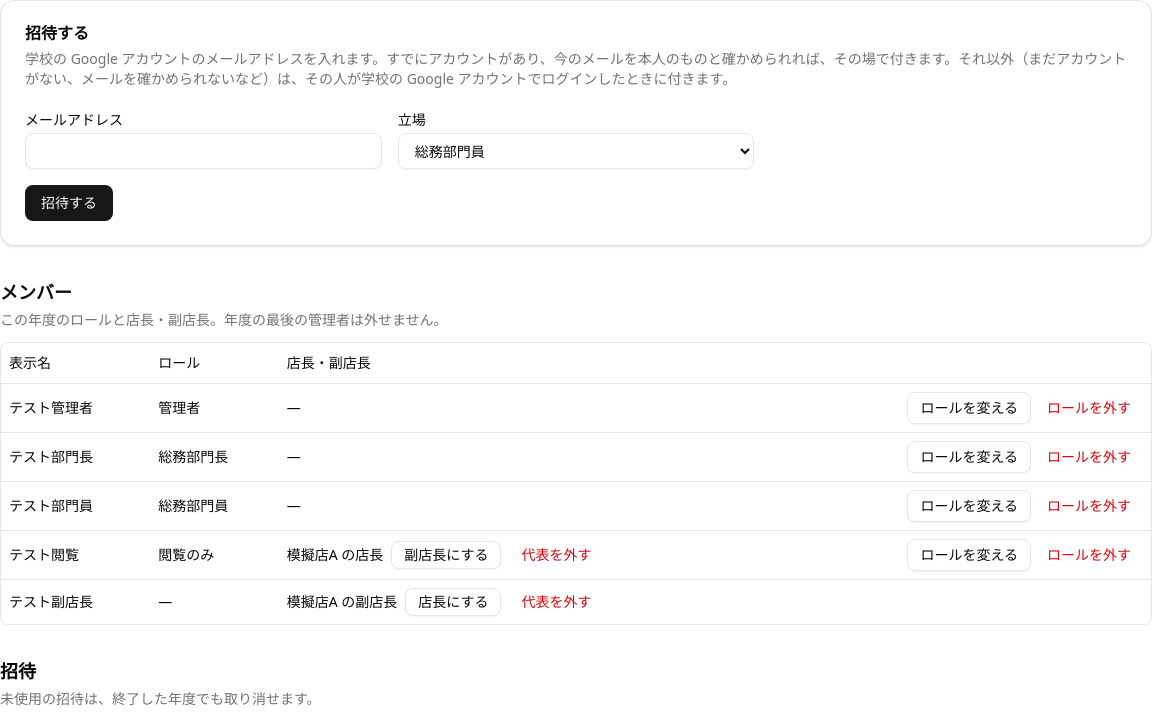
it: 招待のエラーは立場の欄の下（入力は残す。04） › 兼任の禁止（団体の招待。未使用の総務部門員の招待がある）も同じ
The width and height of the screenshot is (1152, 720).
expect the form with test id "invite-form" is shown: met, box [25,110,754,221]
Select "店長" in the dropdown labelled "立場". click: (576, 151)
box: [398,133,754,169]
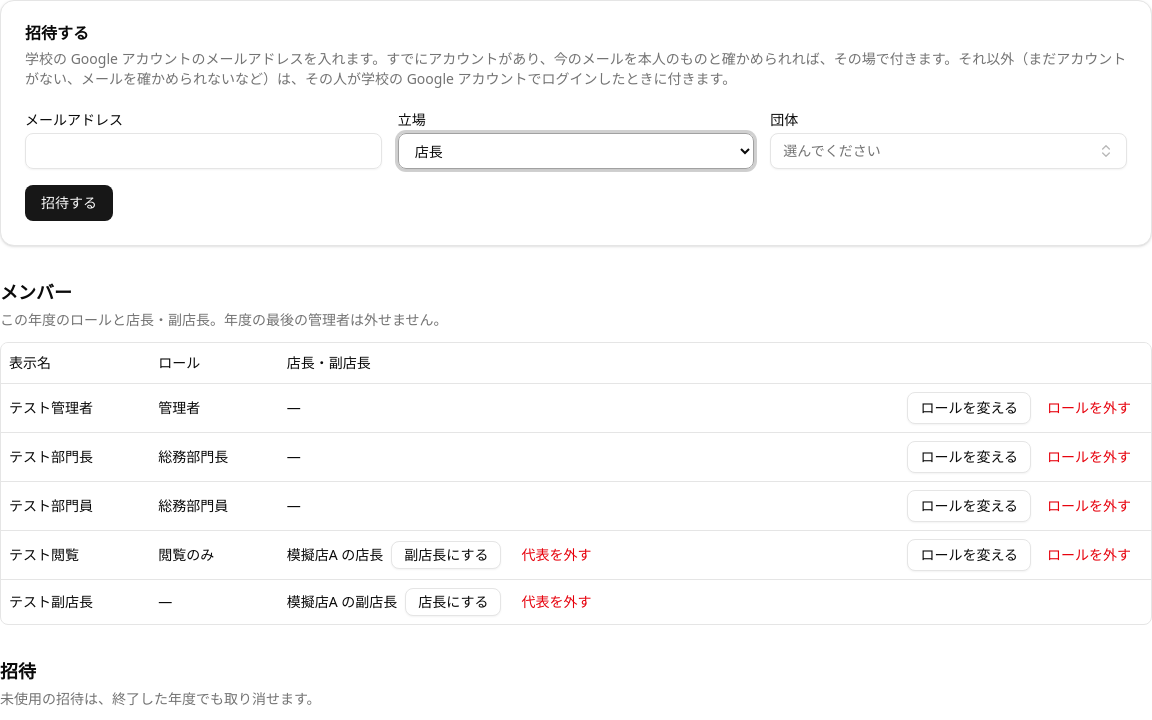
Click the dropdown named "団体". click: (832, 150)
box: [770,133,1127,169]
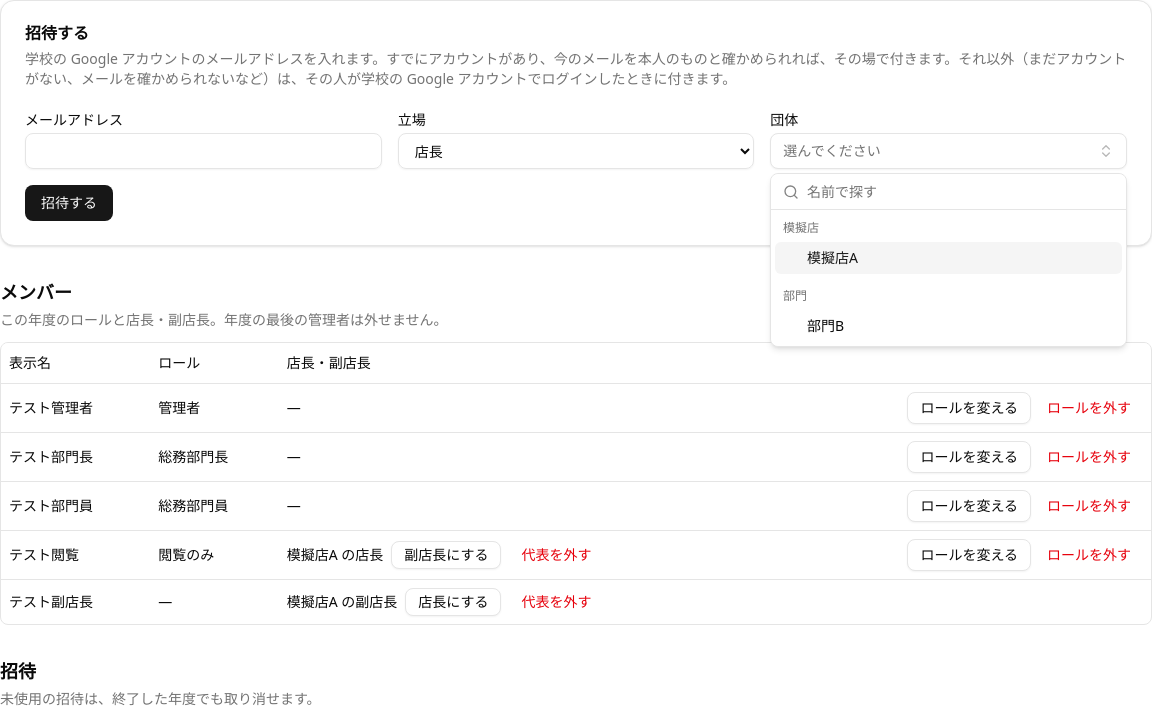
Click the option "模擬店A". click: (832, 258)
box: [775,242,1122,274]
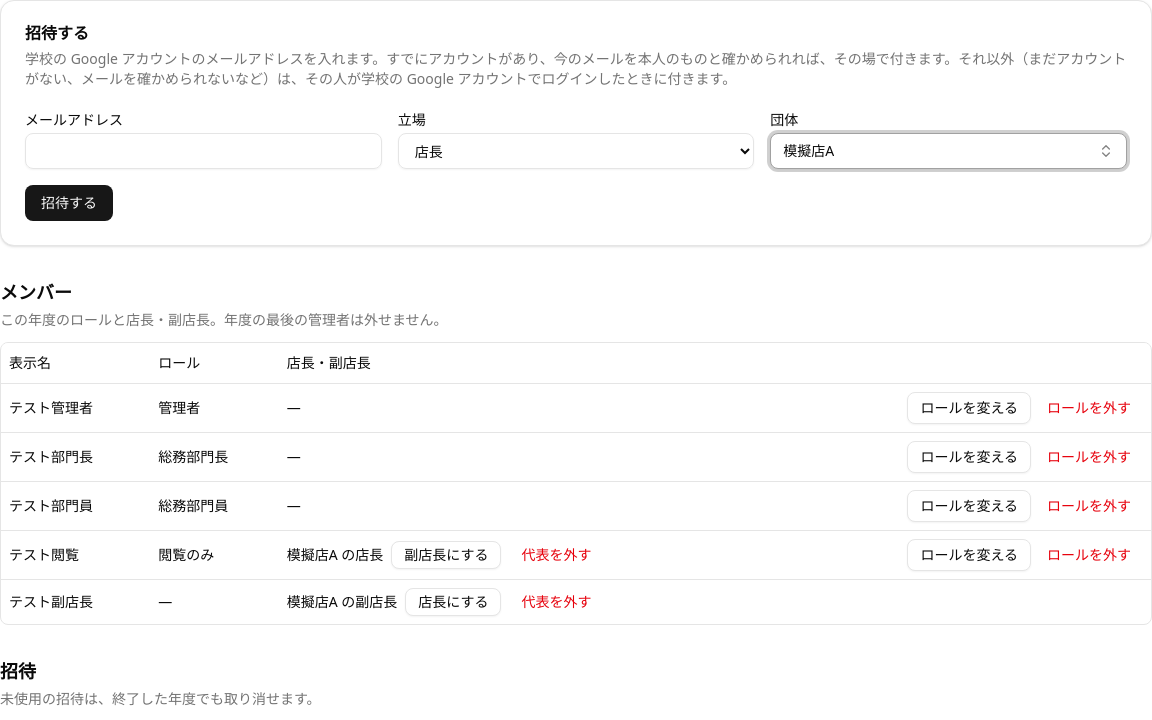
Type "new-staff@example.test" into the field labelled "メールアドレス". click: (203, 151)
box: [25,133,382,169]
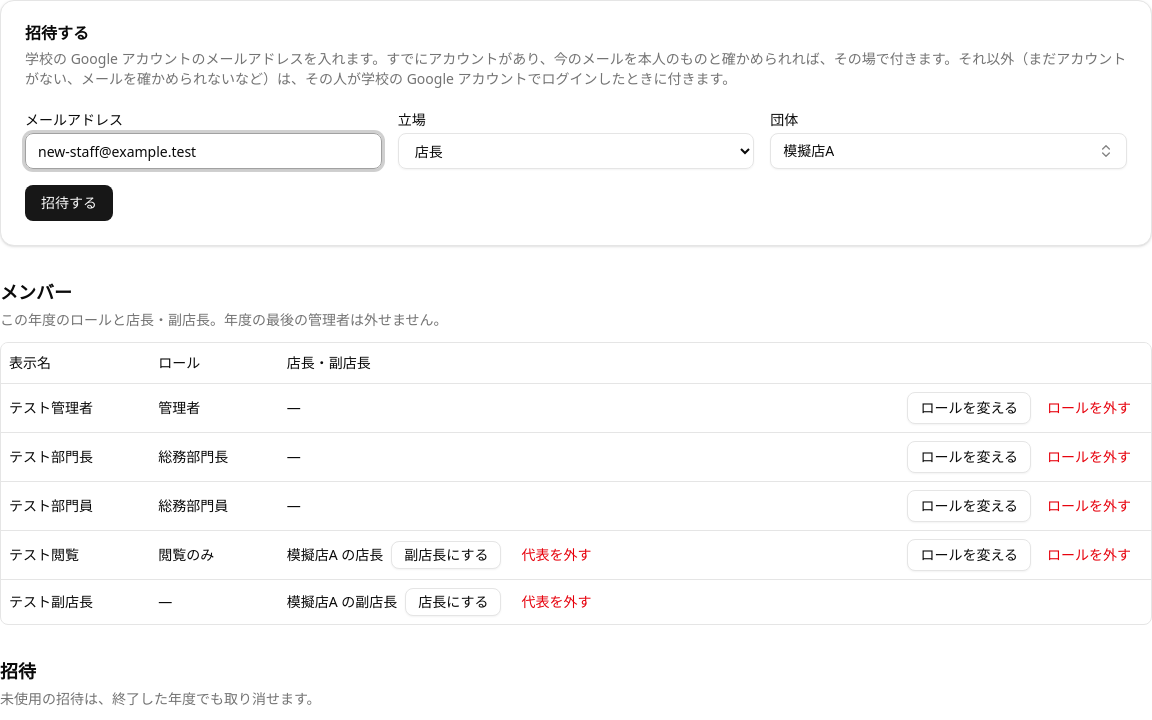
Click the button "招待する". click: (69, 203)
box: [25,185,113,221]
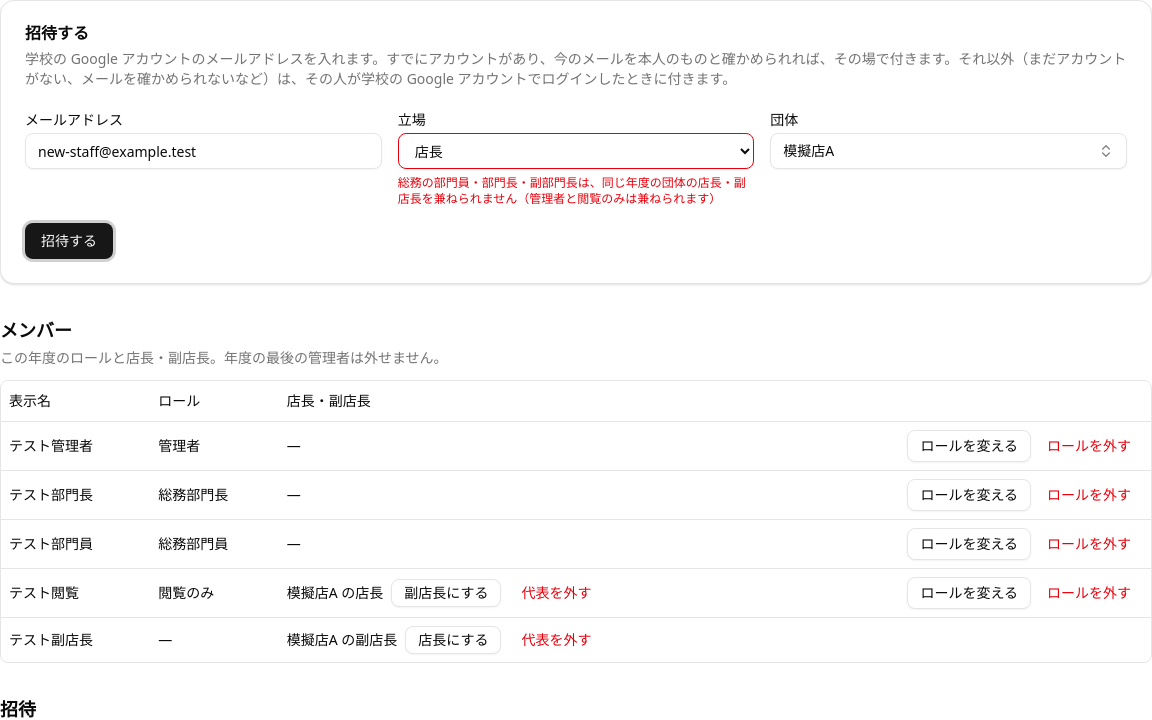
expect the message with test id "invite-kind-error" reads "総務の部門員・部門長・副部門長は、同じ年度の団体の店長・副店長を兼ねられません（管理者と閲覧のみは兼ねられます）": met, box [398,174,746,207]
